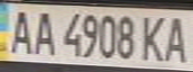0: (97, 11, 118, 60)
4: (57, 9, 81, 57)
8: (115, 11, 139, 61)
9: (78, 10, 100, 60)
A: (160, 12, 193, 63), (3, 7, 36, 55), (27, 8, 57, 56)
K: (136, 11, 169, 63)
